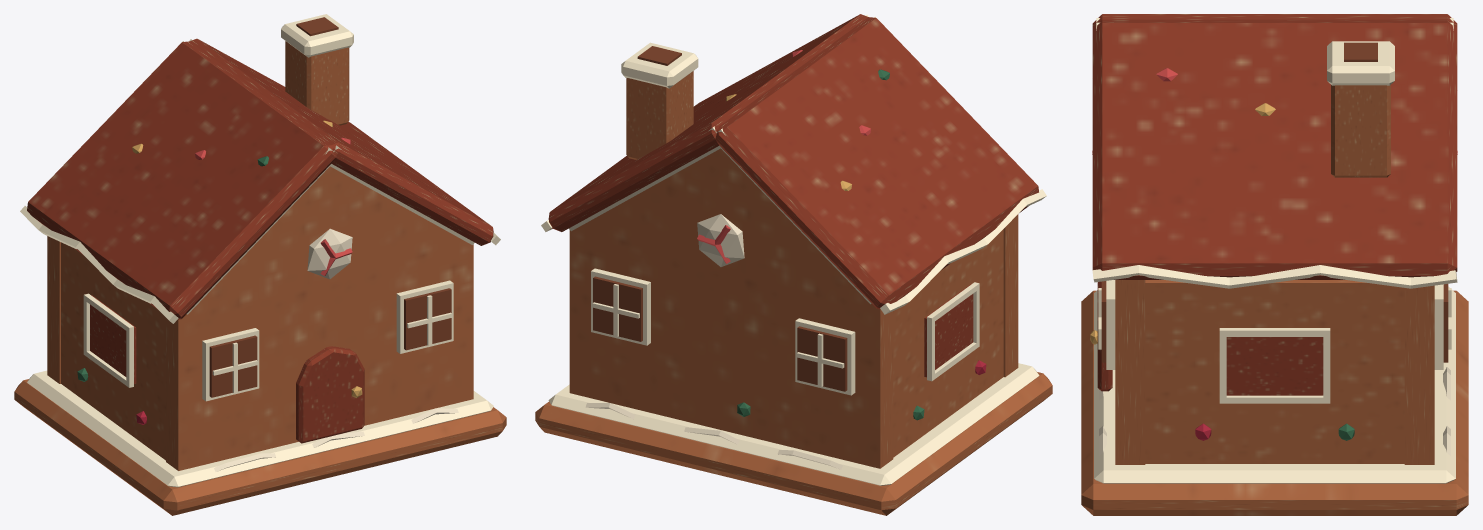
Rendered from gingerbread_house.glb.
3 views of the same model, side by side, from view 1: azimuth 30°, elevation 25°; view 2: azimuth 150°, elevation 25°; view 3: azimuth 270°, elevation 25° (orthographic). The views are drawn at different scales.
Parts seen in each view (by area): view 1: gingerbread_house; view 2: gingerbread_house; view 3: gingerbread_house.
Boxes of the visible parts, bbox=[...] form: gingerbread_house: bbox=[14, 14, 506, 515]; gingerbread_house: bbox=[535, 14, 1052, 515]; gingerbread_house: bbox=[1081, 14, 1468, 515].
Bounding box in the file's own units: 0.353 × 0.342 × 0.284.
10 materials, 2 textured.
